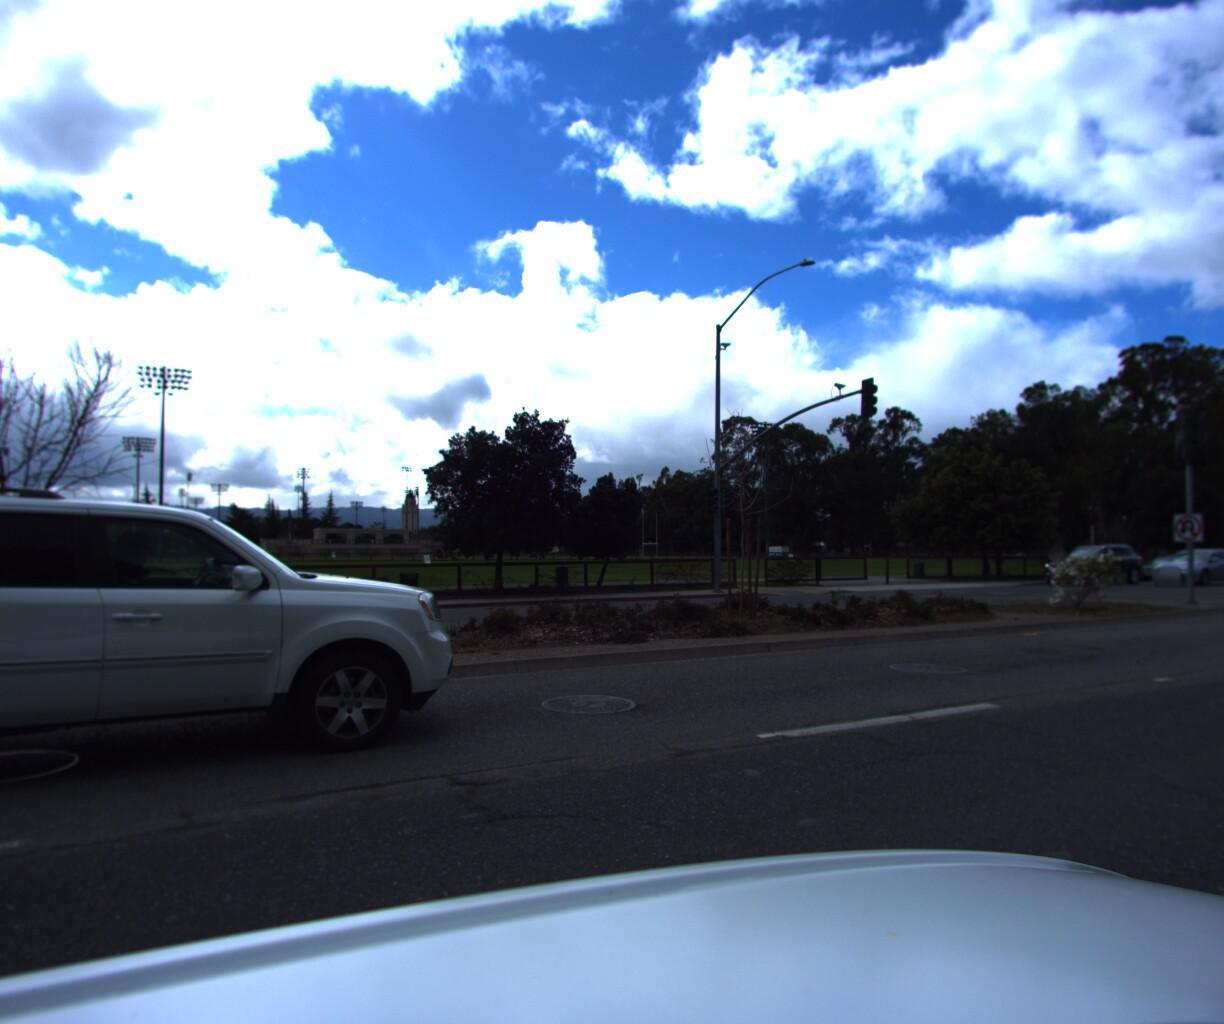car: (0, 463, 503, 864), (1030, 544, 1148, 589), (1131, 547, 1224, 595), (1124, 550, 1209, 580)
